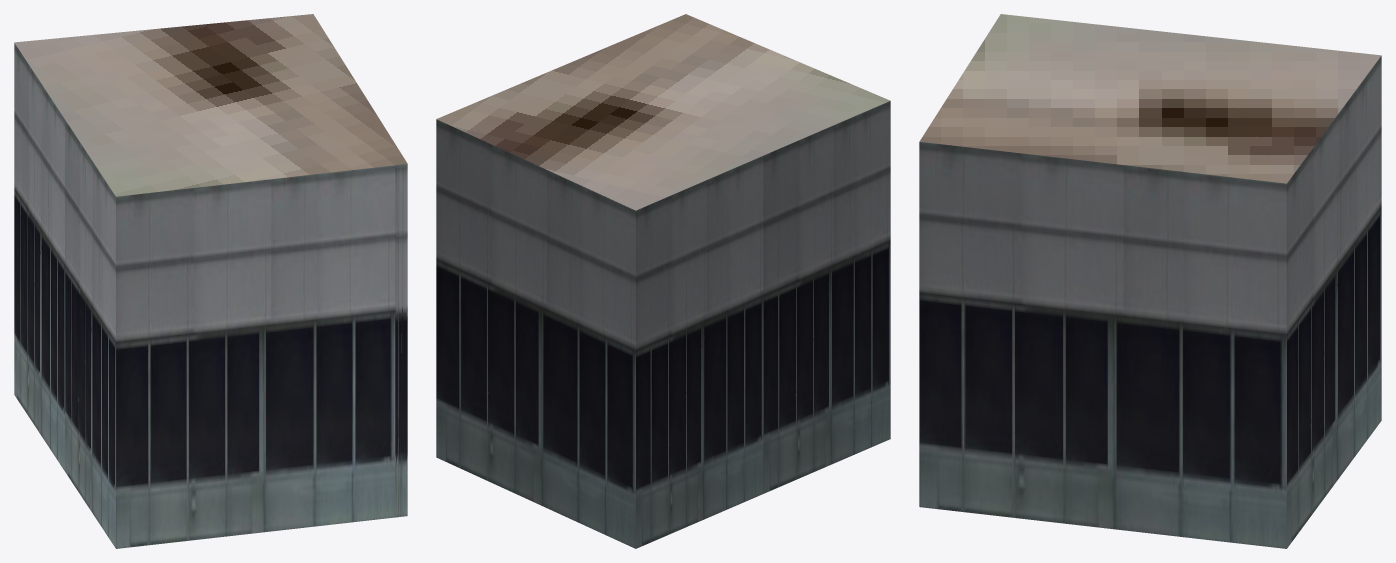
3 views of the same model, side by side, from view 1: azimuth 30°, elevation 25°; view 2: azimuth 150°, elevation 25°; view 3: azimuth 270°, elevation 25° (orthographic). The views are drawn at different scales.
Parts seen in each view (by area): view 1: SketchUp (×5); view 2: SketchUp (×4); view 3: SketchUp (×3).
Part boxes in pixels (box(x1,y1,x2,y2)): SketchUp (×5): box(14, 14, 407, 548); SketchUp (×4): box(436, 14, 890, 548); SketchUp (×3): box(919, 14, 1381, 548).
Size of the model in its own units: 4.73 by 5.45 by 4.75.
2 materials, 2 textured.
